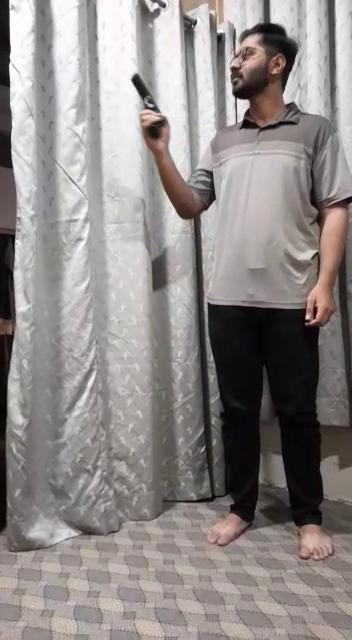criminal: (130, 19, 352, 564)
weapon: (132, 70, 169, 142)
